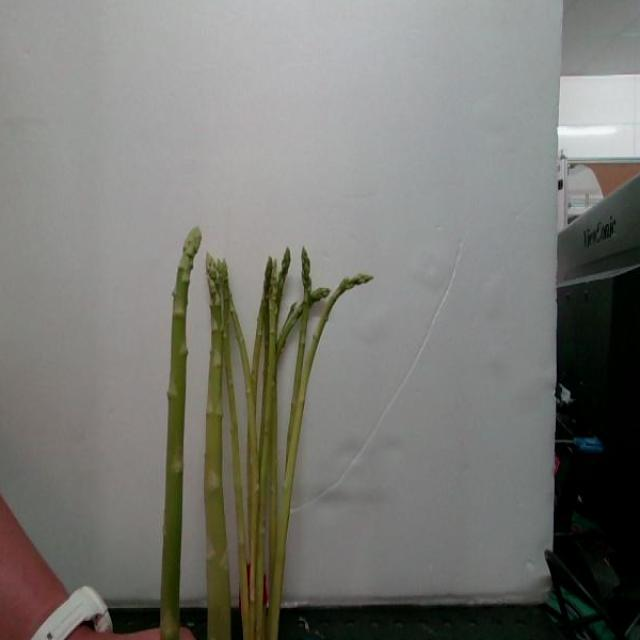aspargus: (266, 274, 372, 640), (161, 229, 203, 632)
